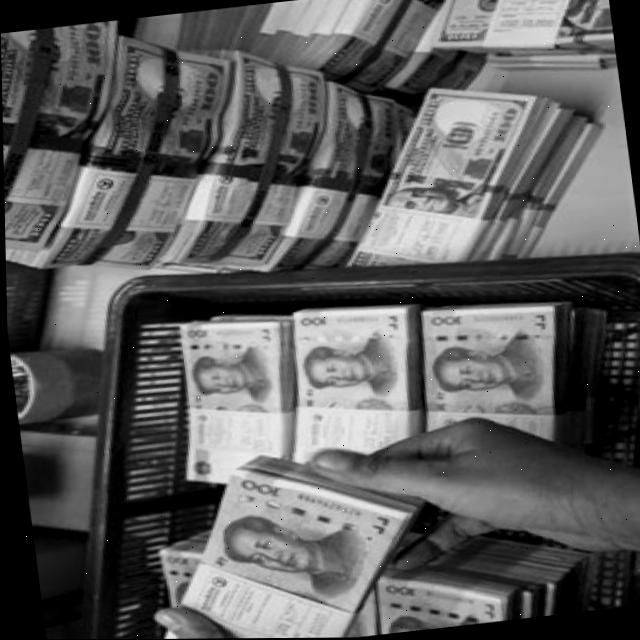banknote: (0, 22, 262, 284), (128, 437, 431, 639), (125, 41, 350, 277), (323, 75, 559, 279), (227, 75, 423, 272), (0, 19, 144, 254), (409, 283, 572, 466), (270, 296, 428, 468), (154, 310, 302, 492), (296, 0, 460, 102), (364, 0, 498, 108), (415, 0, 614, 68), (372, 560, 519, 634), (181, 66, 233, 119), (479, 103, 530, 147), (71, 20, 113, 70), (293, 75, 328, 120), (409, 93, 450, 131), (233, 471, 284, 501), (42, 233, 86, 267), (19, 205, 61, 239), (176, 227, 218, 260), (129, 232, 170, 265), (430, 25, 482, 48), (373, 102, 402, 142), (243, 232, 281, 261), (294, 311, 334, 332), (424, 311, 468, 329), (376, 579, 415, 599), (160, 549, 195, 569), (180, 322, 212, 343)
